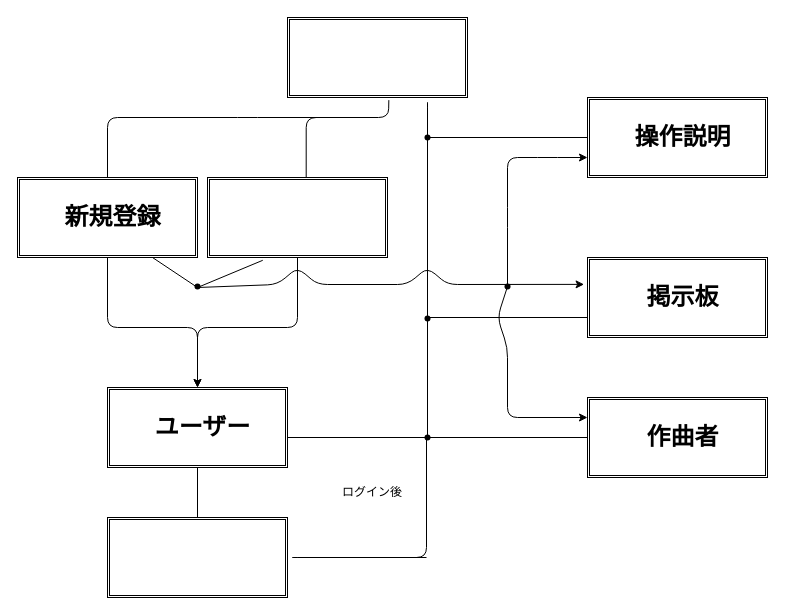
Image size: 785x615. Some labels were removed from this diagram. Here are the shapes that lost their labels. From the top down, the box of each, then its label:
(286, 16, 468, 98): ホーム
(206, 176, 388, 258): ログイン
(106, 516, 288, 598): コードボード
